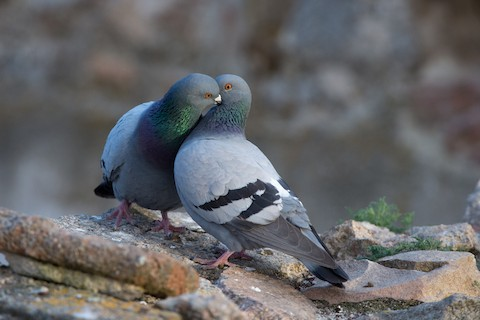pigeon: (173, 68, 357, 295), (90, 70, 225, 238)
